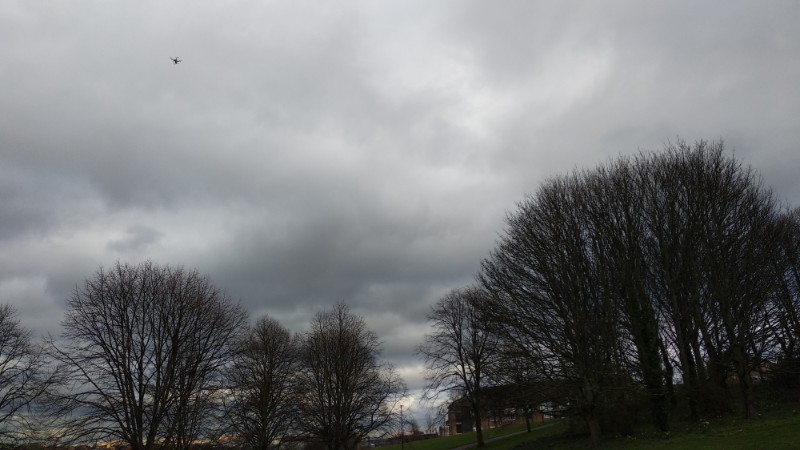drone: (169, 55, 182, 65)
